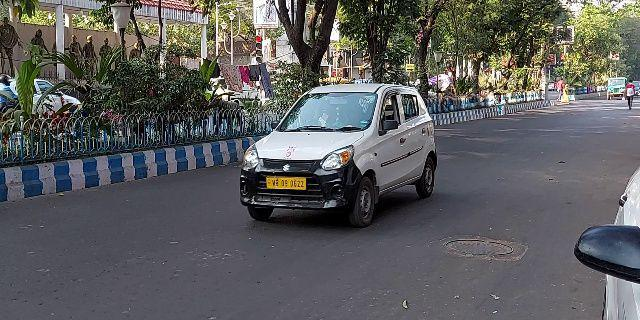Car: (237, 80, 440, 230)
